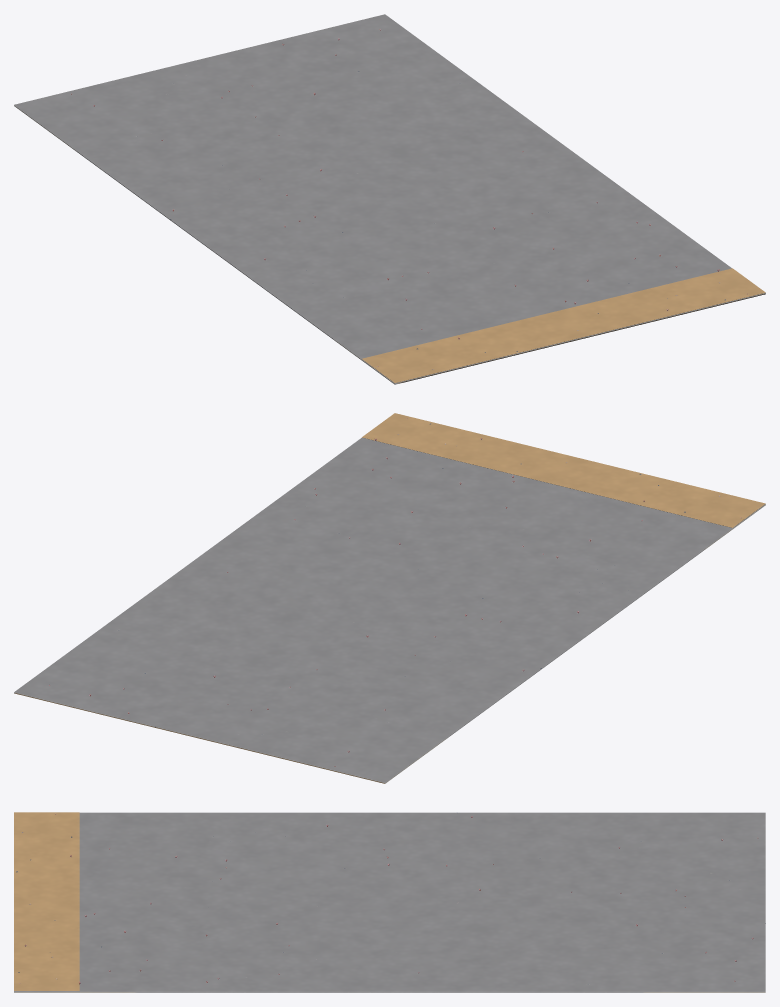
Rendered from ground_reef.glb.
The picture shows the model from 3 angles, top to bottom: view 1: azimuth 30°, elevation 25°; view 2: azimuth 150°, elevation 25°; view 3: azimuth 270°, elevation 25°; orthographic projection.
Visible parts, largest first — view 1: SM_GroundReef; view 2: SM_GroundReef; view 3: SM_GroundReef.
Part boxes in pixels (x1=…): SM_GroundReef: x1=14, y1=14, x2=765, y2=384; SM_GroundReef: x1=14, y1=413, x2=765, y2=783; SM_GroundReef: x1=14, y1=812, x2=765, y2=992.
Bounding box in the file's own units: 45.06 × 0.4575 × 80.04.
1 material, 1 textured.
